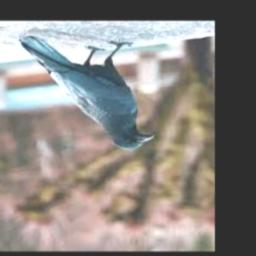Crow: (17, 36, 154, 151)
